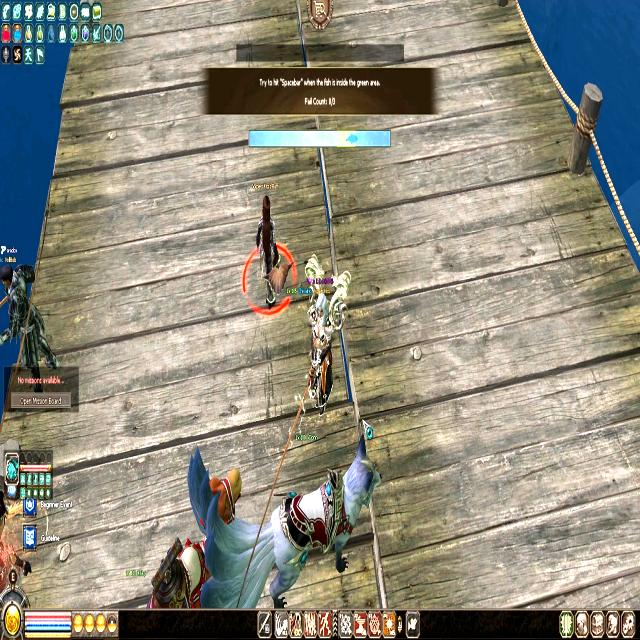fishes: (344, 132, 359, 144)
